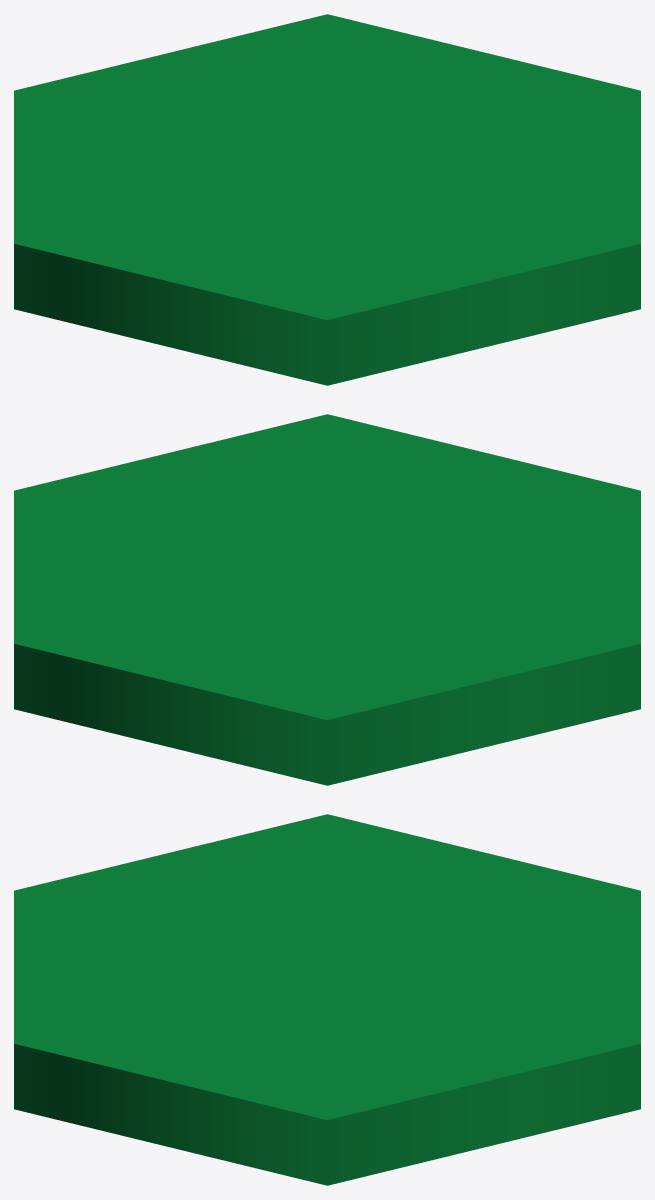
The model's file is tile.obj.
The picture shows the model from 3 angles, top to bottom: view 1: azimuth 30°, elevation 25°; view 2: azimuth 150°, elevation 25°; view 3: azimuth 270°, elevation 25°; orthographic projection.
Visible parts, largest first — view 1: Cylinder001; view 2: Cylinder001; view 3: Cylinder001.
Part boxes in pixels (x1=…): Cylinder001: x1=14, y1=14, x2=640, y2=385; Cylinder001: x1=14, y1=414, x2=640, y2=785; Cylinder001: x1=14, y1=814, x2=640, y2=1185.
Size of the model in its own units: 12 by 1.2 by 10.39.
